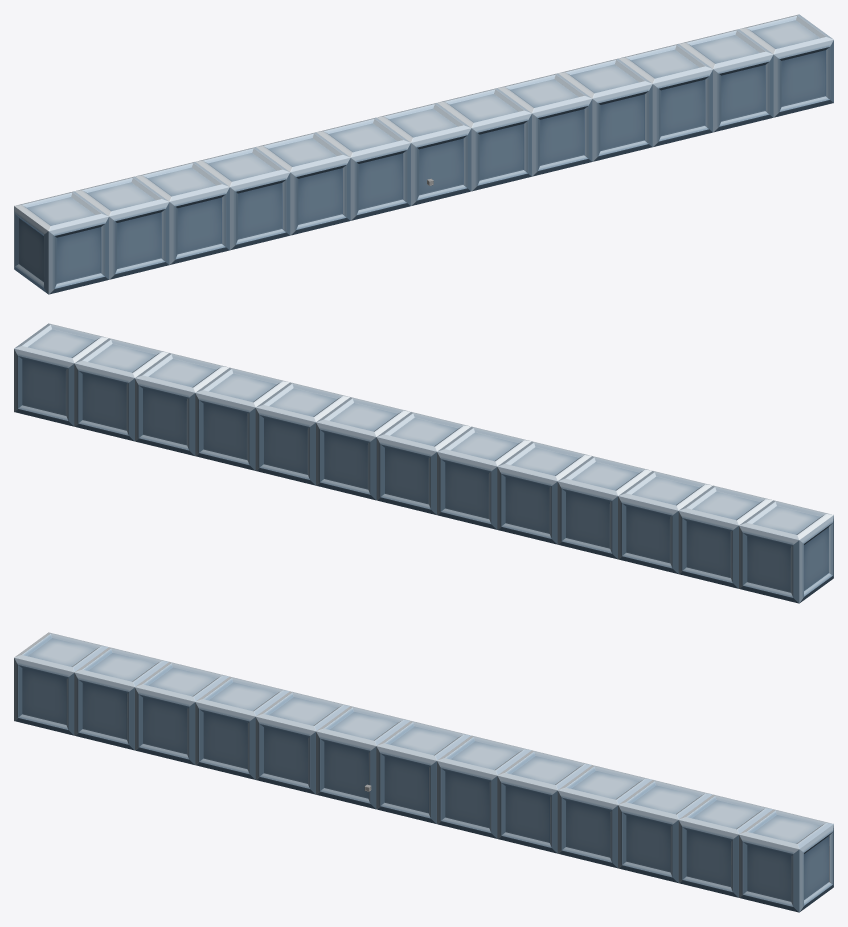
File: PrototypeI13.fbx
The picture shows the model from 3 angles, top to bottom: view 1: azimuth 30°, elevation 25°; view 2: azimuth 150°, elevation 25°; view 3: azimuth 330°, elevation 25°; orthographic projection.
Parts seen in each view (by area): view 1: polySurface1; view 2: polySurface1; view 3: polySurface1.
Part boxes in pixels (x1,y1,x2,y2): polySurface1: [14, 14, 833, 294]; polySurface1: [14, 323, 833, 603]; polySurface1: [14, 632, 833, 912].
Bounding box in the file's own units: 11.35 × 0.9244 × 1.27.
2 materials, 1 textured.
